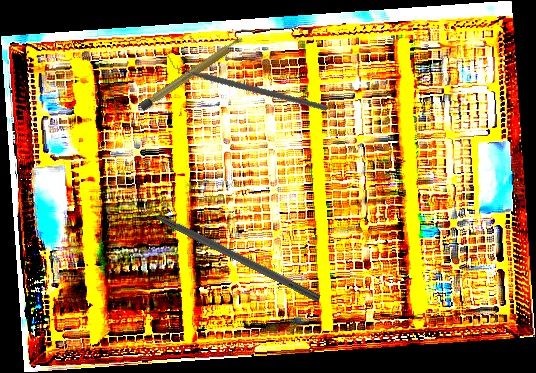Chopper: (166, 14, 330, 151)
Hook Surgical: (130, 197, 322, 303)
Scalpel Handle: (138, 35, 246, 112)
